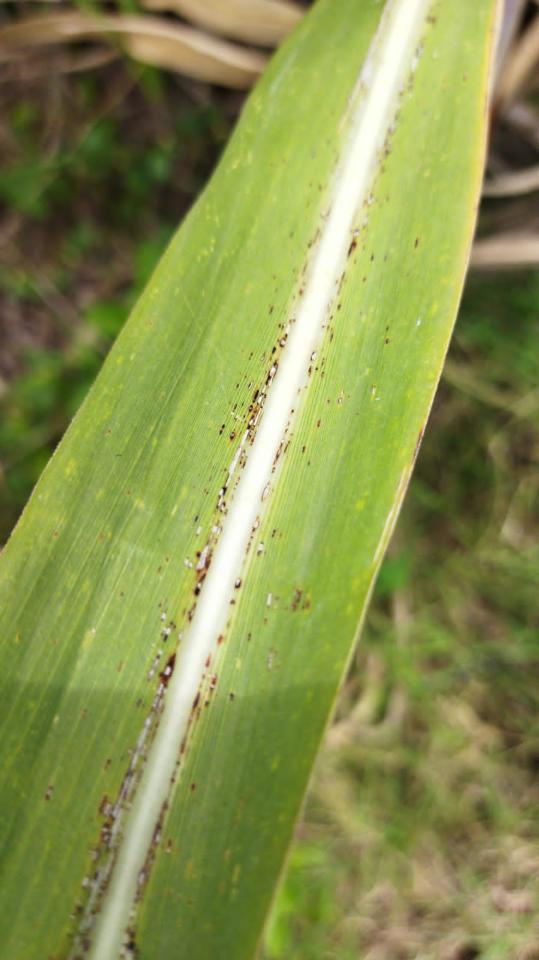Rust: (116, 34, 427, 959), (50, 176, 337, 959)
